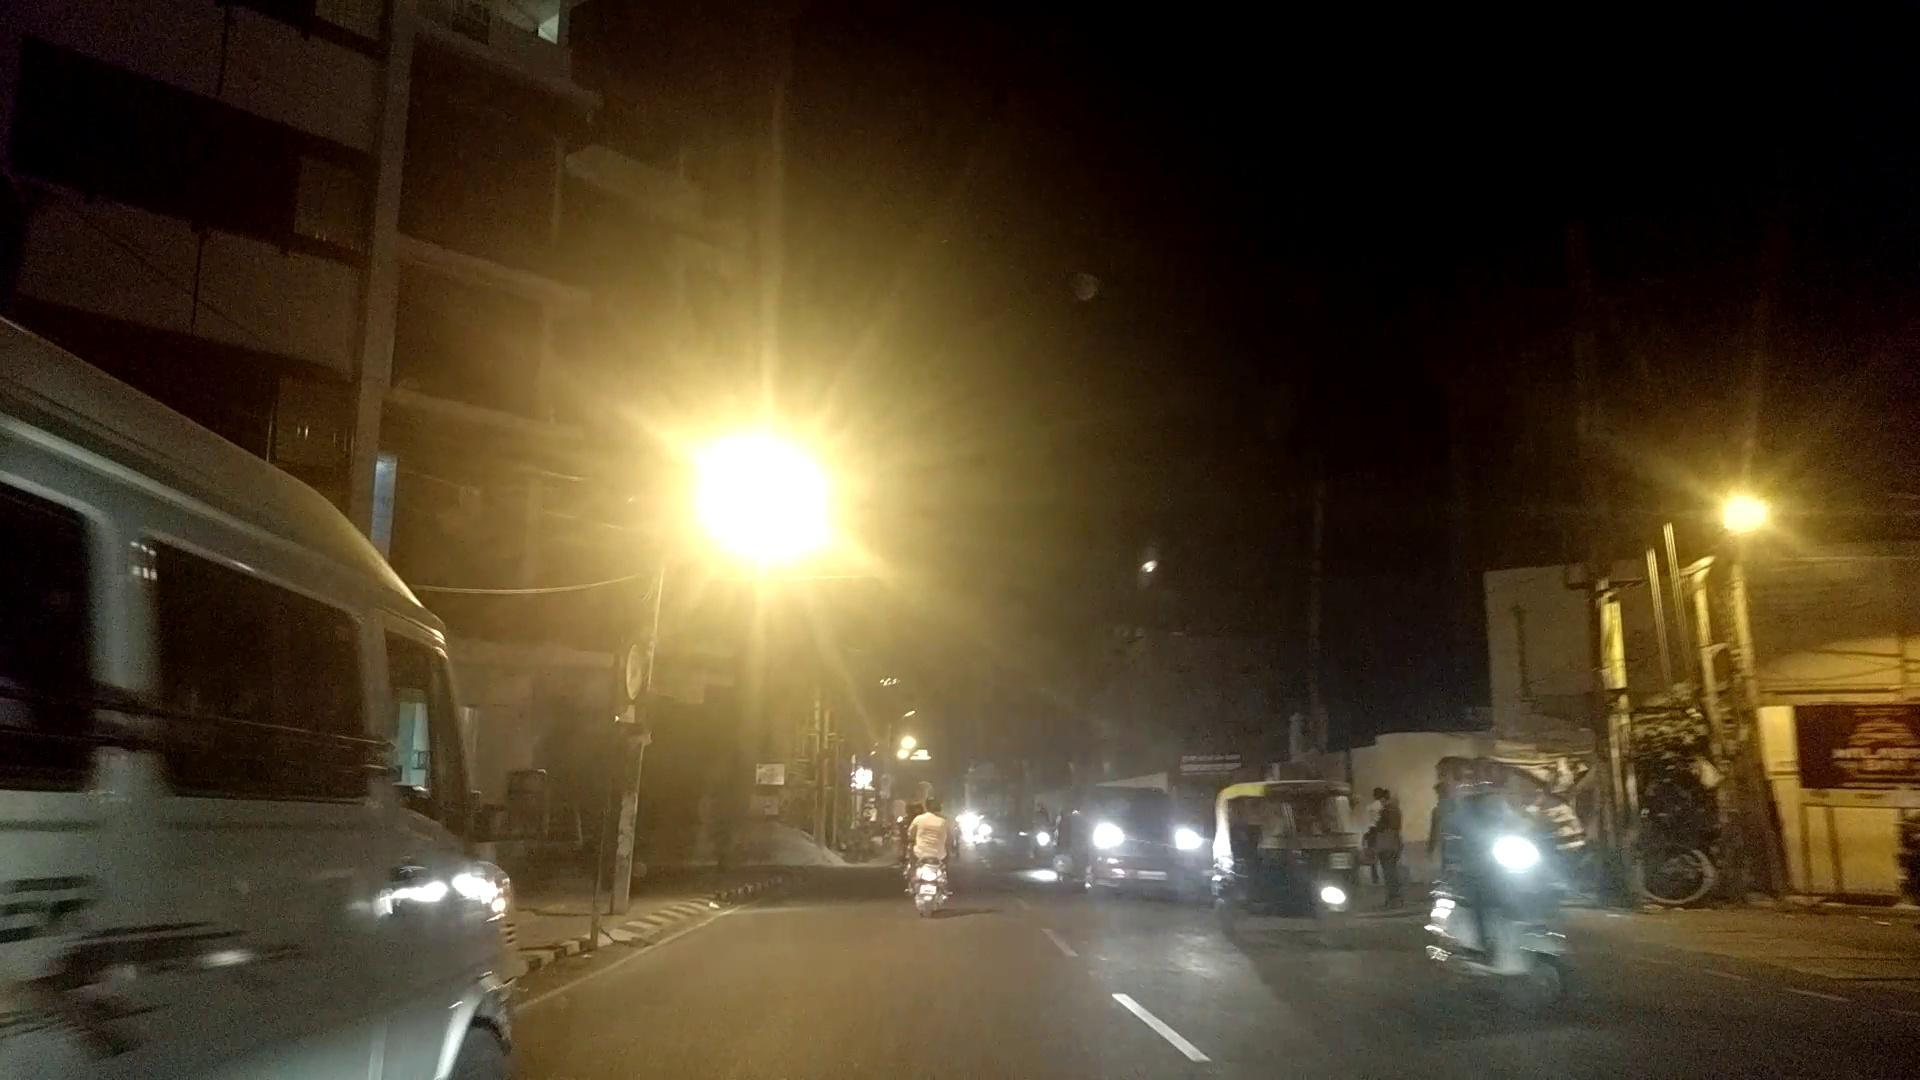on: (520, 232, 1063, 764)
